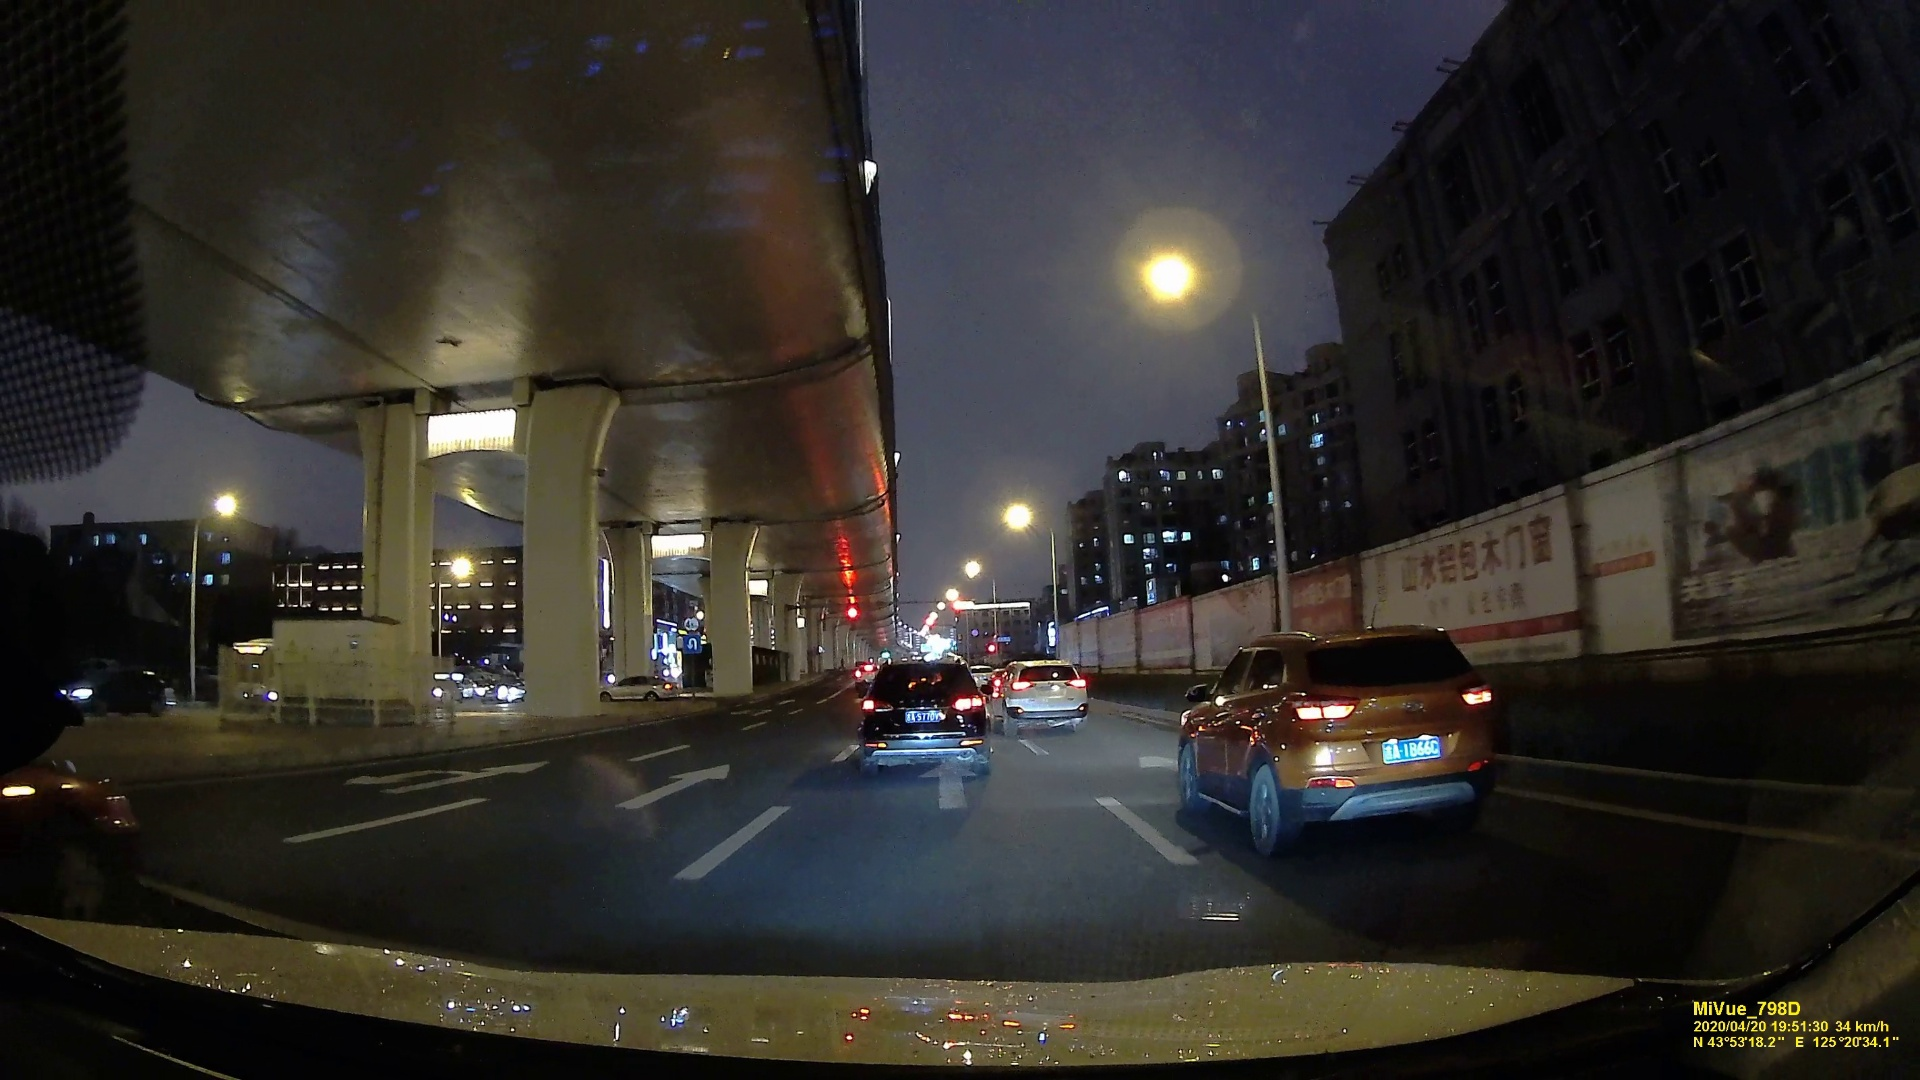vehicle: (1168, 620, 1509, 862), (856, 661, 992, 775), (992, 655, 1092, 732), (62, 666, 169, 717), (603, 674, 680, 702)
